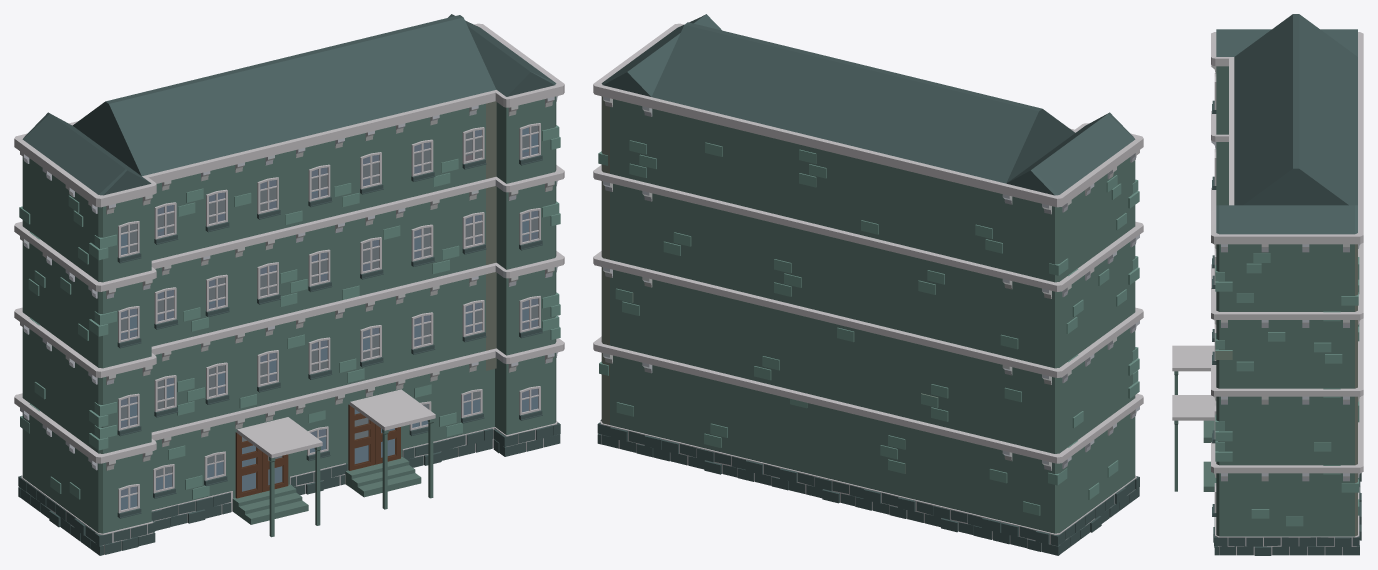
Rendered from 4Story Wide 2Doors Roof.glb.
3 views of the same model, side by side, from view 1: azimuth 30°, elevation 25°; view 2: azimuth 150°, elevation 25°; view 3: azimuth 270°, elevation 25° (orthographic). The views are drawn at different scales.
Visible parts, largest first — view 1: 4Story_Wide_2Doors_Roof; view 2: 4Story_Wide_2Doors_Roof; view 3: 4Story_Wide_2Doors_Roof.
Part boxes in pixels (x1=…): 4Story_Wide_2Doors_Roof: x1=14, y1=14, x2=564, y2=555; 4Story_Wide_2Doors_Roof: x1=593, y1=14, x2=1143, y2=555; 4Story_Wide_2Doors_Roof: x1=1172, y1=14, x2=1363, y2=555.
Size of the model in its own units: 16.39 by 13.64 by 6.47.
1 material, 1 textured.
